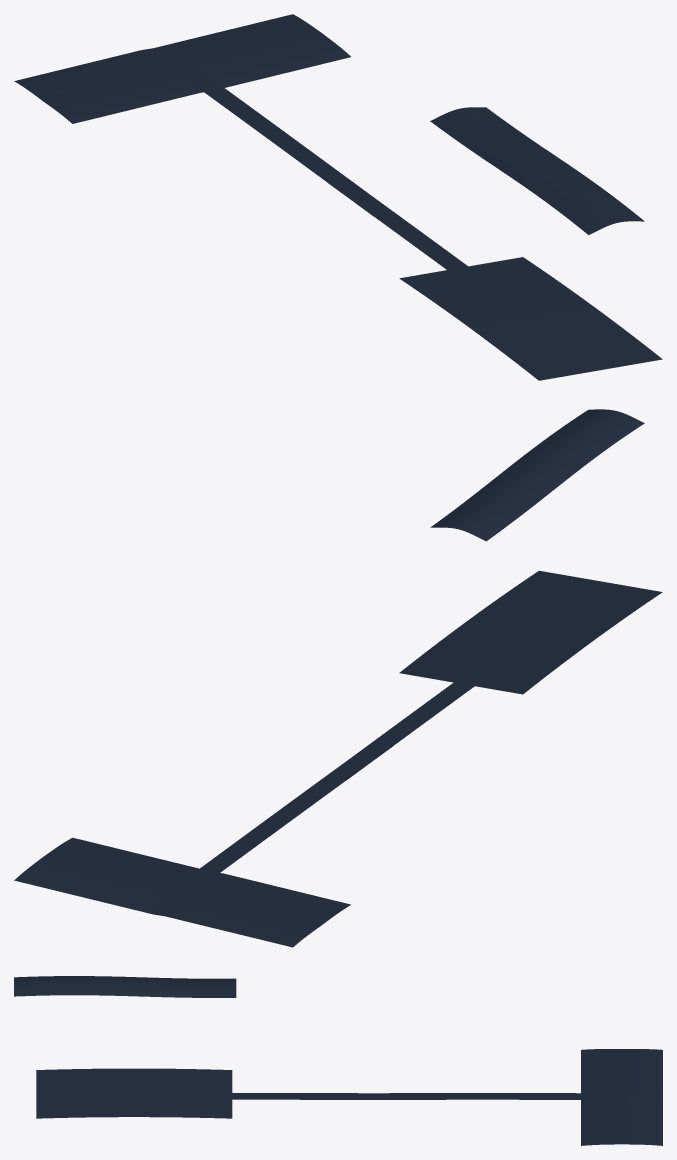
The model's file is aerodynamic_widebody_kit.glb.
The picture shows the model from 3 angles, top to bottom: view 1: azimuth 30°, elevation 25°; view 2: azimuth 150°, elevation 25°; view 3: azimuth 270°, elevation 25°; orthographic projection. The views are drawn at different scales.
Parts seen in each view (by area): view 1: Aero_Rear_Venturi_Diffuser, Aero_Front_Splitter_Track, Aero_Swan_Neck_Wing_Blade, Aero_Side_Skirt_LH, Aero_Side_Skirt_RH; view 2: Aero_Rear_Venturi_Diffuser, Aero_Front_Splitter_Track, Aero_Swan_Neck_Wing_Blade, Aero_Side_Skirt_LH, Aero_Side_Skirt_RH; view 3: Aero_Rear_Venturi_Diffuser, Aero_Front_Splitter_Track, Aero_Swan_Neck_Wing_Blade, Aero_Side_Skirt_LH, Aero_Side_Skirt_RH.
Part boxes in pixels (<box>): Aero_Rear_Venturi_Diffuser: <box>399,257,662,380</box>; Aero_Front_Splitter_Track: <box>14,14,350,123</box>; Aero_Swan_Neck_Wing_Blade: <box>430,107,644,234</box>; Aero_Side_Skirt_LH: <box>171,63,372,215</box>; Aero_Side_Skirt_RH: <box>328,183,467,269</box>; Aero_Rear_Venturi_Diffuser: <box>399,570,662,694</box>; Aero_Front_Splitter_Track: <box>14,837,350,947</box>; Aero_Swan_Neck_Wing_Blade: <box>430,409,644,541</box>; Aero_Side_Skirt_LH: <box>171,746,392,894</box>; Aero_Side_Skirt_RH: <box>346,682,474,780</box>; Aero_Rear_Venturi_Diffuser: <box>36,1068,232,1118</box>; Aero_Front_Splitter_Track: <box>581,1049,662,1145</box>; Aero_Swan_Neck_Wing_Blade: <box>14,976,236,997</box>; Aero_Side_Skirt_LH: <box>373,1093,625,1099</box>; Aero_Side_Skirt_RH: <box>232,1093,373,1099</box>.
Bounding box in the file's own units: 1.98 × 1.12 × 5.7.
